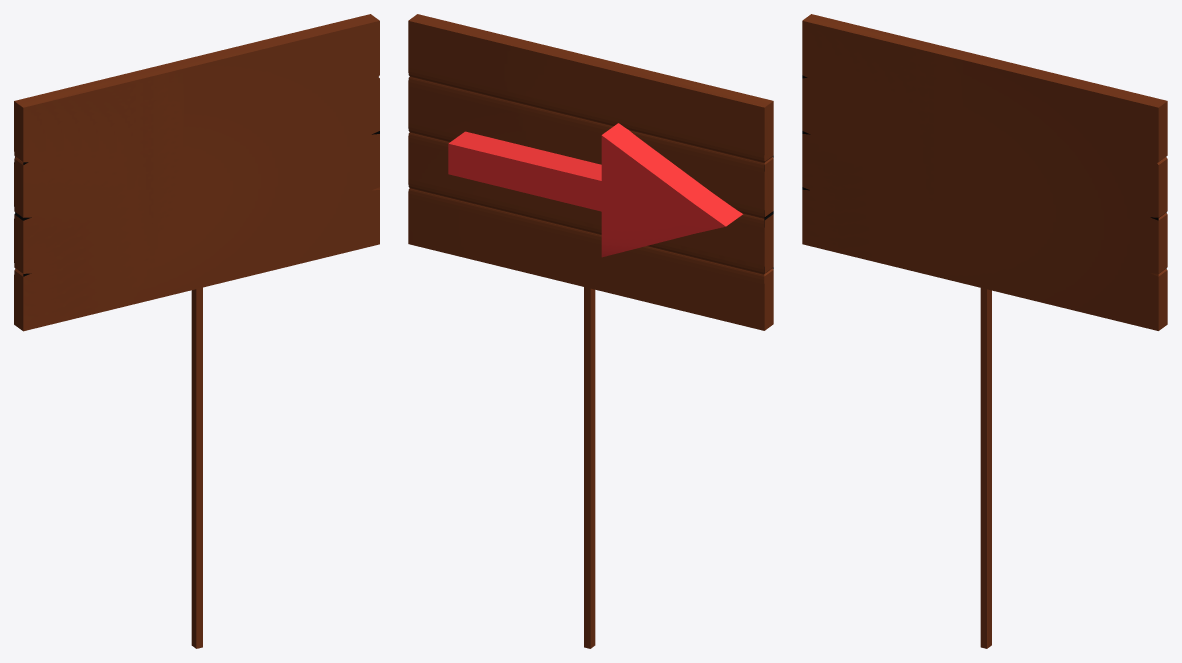
The model's file is Signboard.obj.
3 renders of one model, left to right at view 1: azimuth 30°, elevation 25°; view 2: azimuth 150°, elevation 25°; view 3: azimuth 330°, elevation 25°, orthographic.
Parts seen in each view (by area): view 1: 立方体.003; view 2: 立方体.003; view 3: 立方体.003.
Part boxes in pixels (x1=…): 立方体.003: x1=14, y1=14, x2=379, y2=648; 立方体.003: x1=408, y1=14, x2=773, y2=648; 立方体.003: x1=802, y1=14, x2=1167, y2=648.
Size of the model in its own units: 9.81 by 15.4 by 1.25.
Materials: 1 (1 with a texture image).
